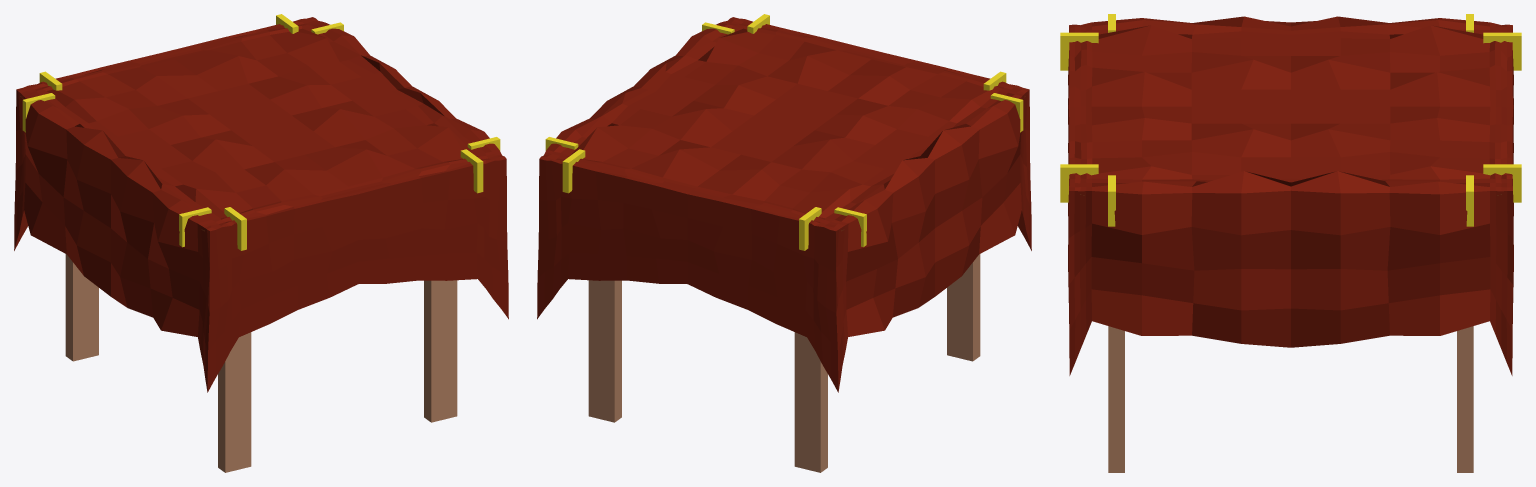
File: tableTILE.fbx
The picture shows the model from 3 angles, left to right: view 1: azimuth 30°, elevation 25°; view 2: azimuth 150°, elevation 25°; view 3: azimuth 270°, elevation 25°; orthographic projection. The views are drawn at different scales.
Parts seen in each view (by area): view 1: Cylinder.002; view 2: Cylinder.002; view 3: Cylinder.002.
Part boxes in pixels (x1,y1,x2,y2): Cylinder.002: [14, 14, 508, 472]; Cylinder.002: [537, 14, 1031, 472]; Cylinder.002: [1060, 14, 1521, 472].
Size of the model in its own units: 200 by 156 by 207.
